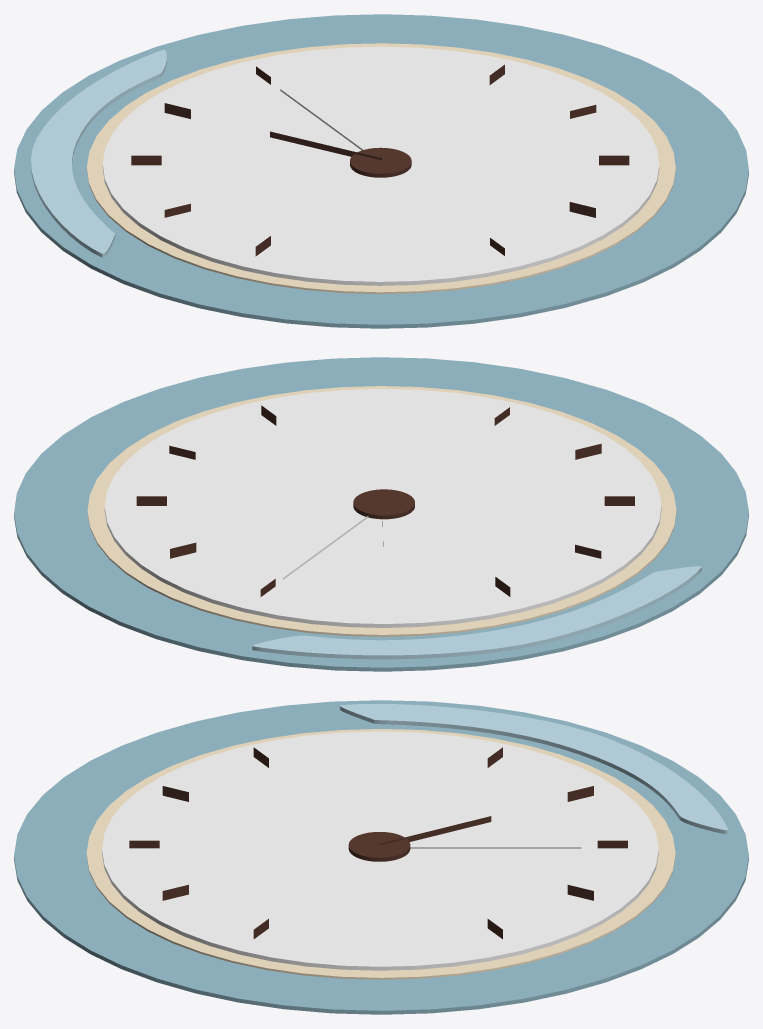
Rendered from emoji_u1f55a.glb.
3 views of the same model, one above another, from view 1: azimuth 30°, elevation 25°; view 2: azimuth 150°, elevation 25°; view 3: azimuth 270°, elevation 25° (orthographic).
Visible parts, largest first — view 1: emoji_u1f55a; view 2: emoji_u1f55a; view 3: emoji_u1f55a.
Part boxes in pixels (bbox=[...]): emoji_u1f55a: bbox=[14, 14, 748, 328]; emoji_u1f55a: bbox=[14, 357, 748, 671]; emoji_u1f55a: bbox=[14, 700, 748, 1014].
Size of the model in its own units: 0.0339 by 0.0018 by 0.0339.
